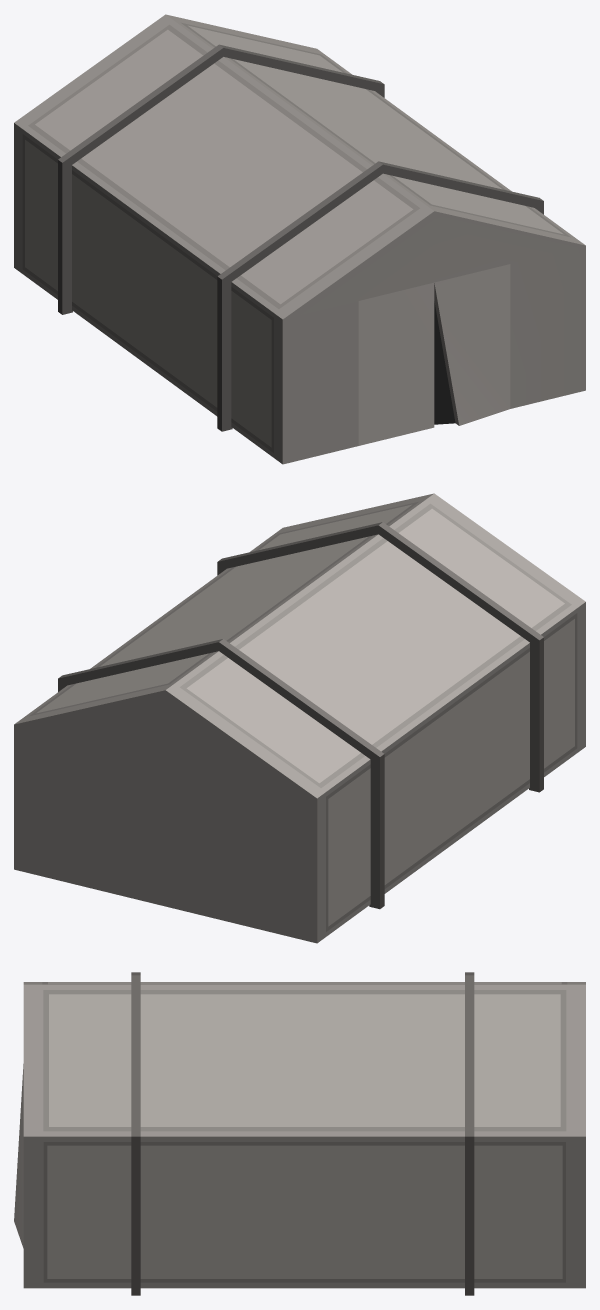
File: SA_Bld_BioTent_01.gltf
The picture shows the model from 3 angles, top to bottom: view 1: azimuth 30°, elevation 25°; view 2: azimuth 150°, elevation 25°; view 3: azimuth 270°, elevation 25°; orthographic projection. The views are drawn at different scales.
Parts seen in each view (by area): view 1: SA_Bld_BioTent_01; view 2: SA_Bld_BioTent_01; view 3: SA_Bld_BioTent_01.
Part boxes in pixels (box(x1,y1,x2,y2)): SA_Bld_BioTent_01: box(14, 14, 585, 464); SA_Bld_BioTent_01: box(14, 493, 585, 943); SA_Bld_BioTent_01: box(14, 972, 585, 1295).
Size of the model in its own units: 8.98 by 6.07 by 13.21.
Materials: 1 (1 with a texture image).
